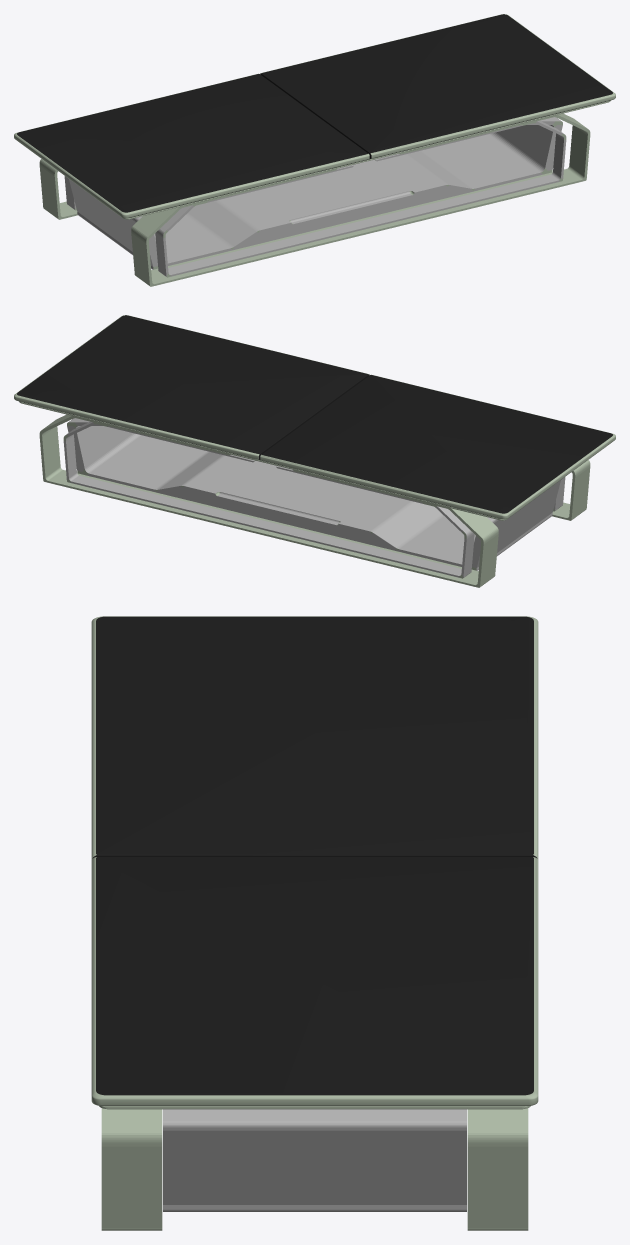
File: Table03.fbx
The picture shows the model from 3 angles, top to bottom: view 1: azimuth 30°, elevation 25°; view 2: azimuth 150°, elevation 25°; view 3: azimuth 270°, elevation 25°; orthographic projection. The views are drawn at different scales.
Parts seen in each view (by area): view 1: Demo.008; view 2: Demo.008; view 3: Demo.008.
Part boxes in pixels (box(x1,y1,x2,y2)): Demo.008: box(14, 14, 615, 286); Demo.008: box(14, 315, 615, 587); Demo.008: box(91, 616, 538, 1230).
Size of the model in its own units: 394 by 62.04 by 154.
